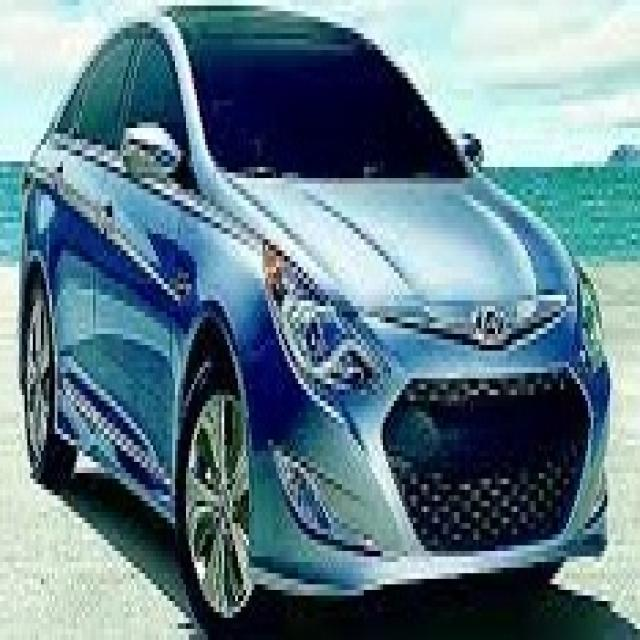blue: (20, 4, 616, 640)
